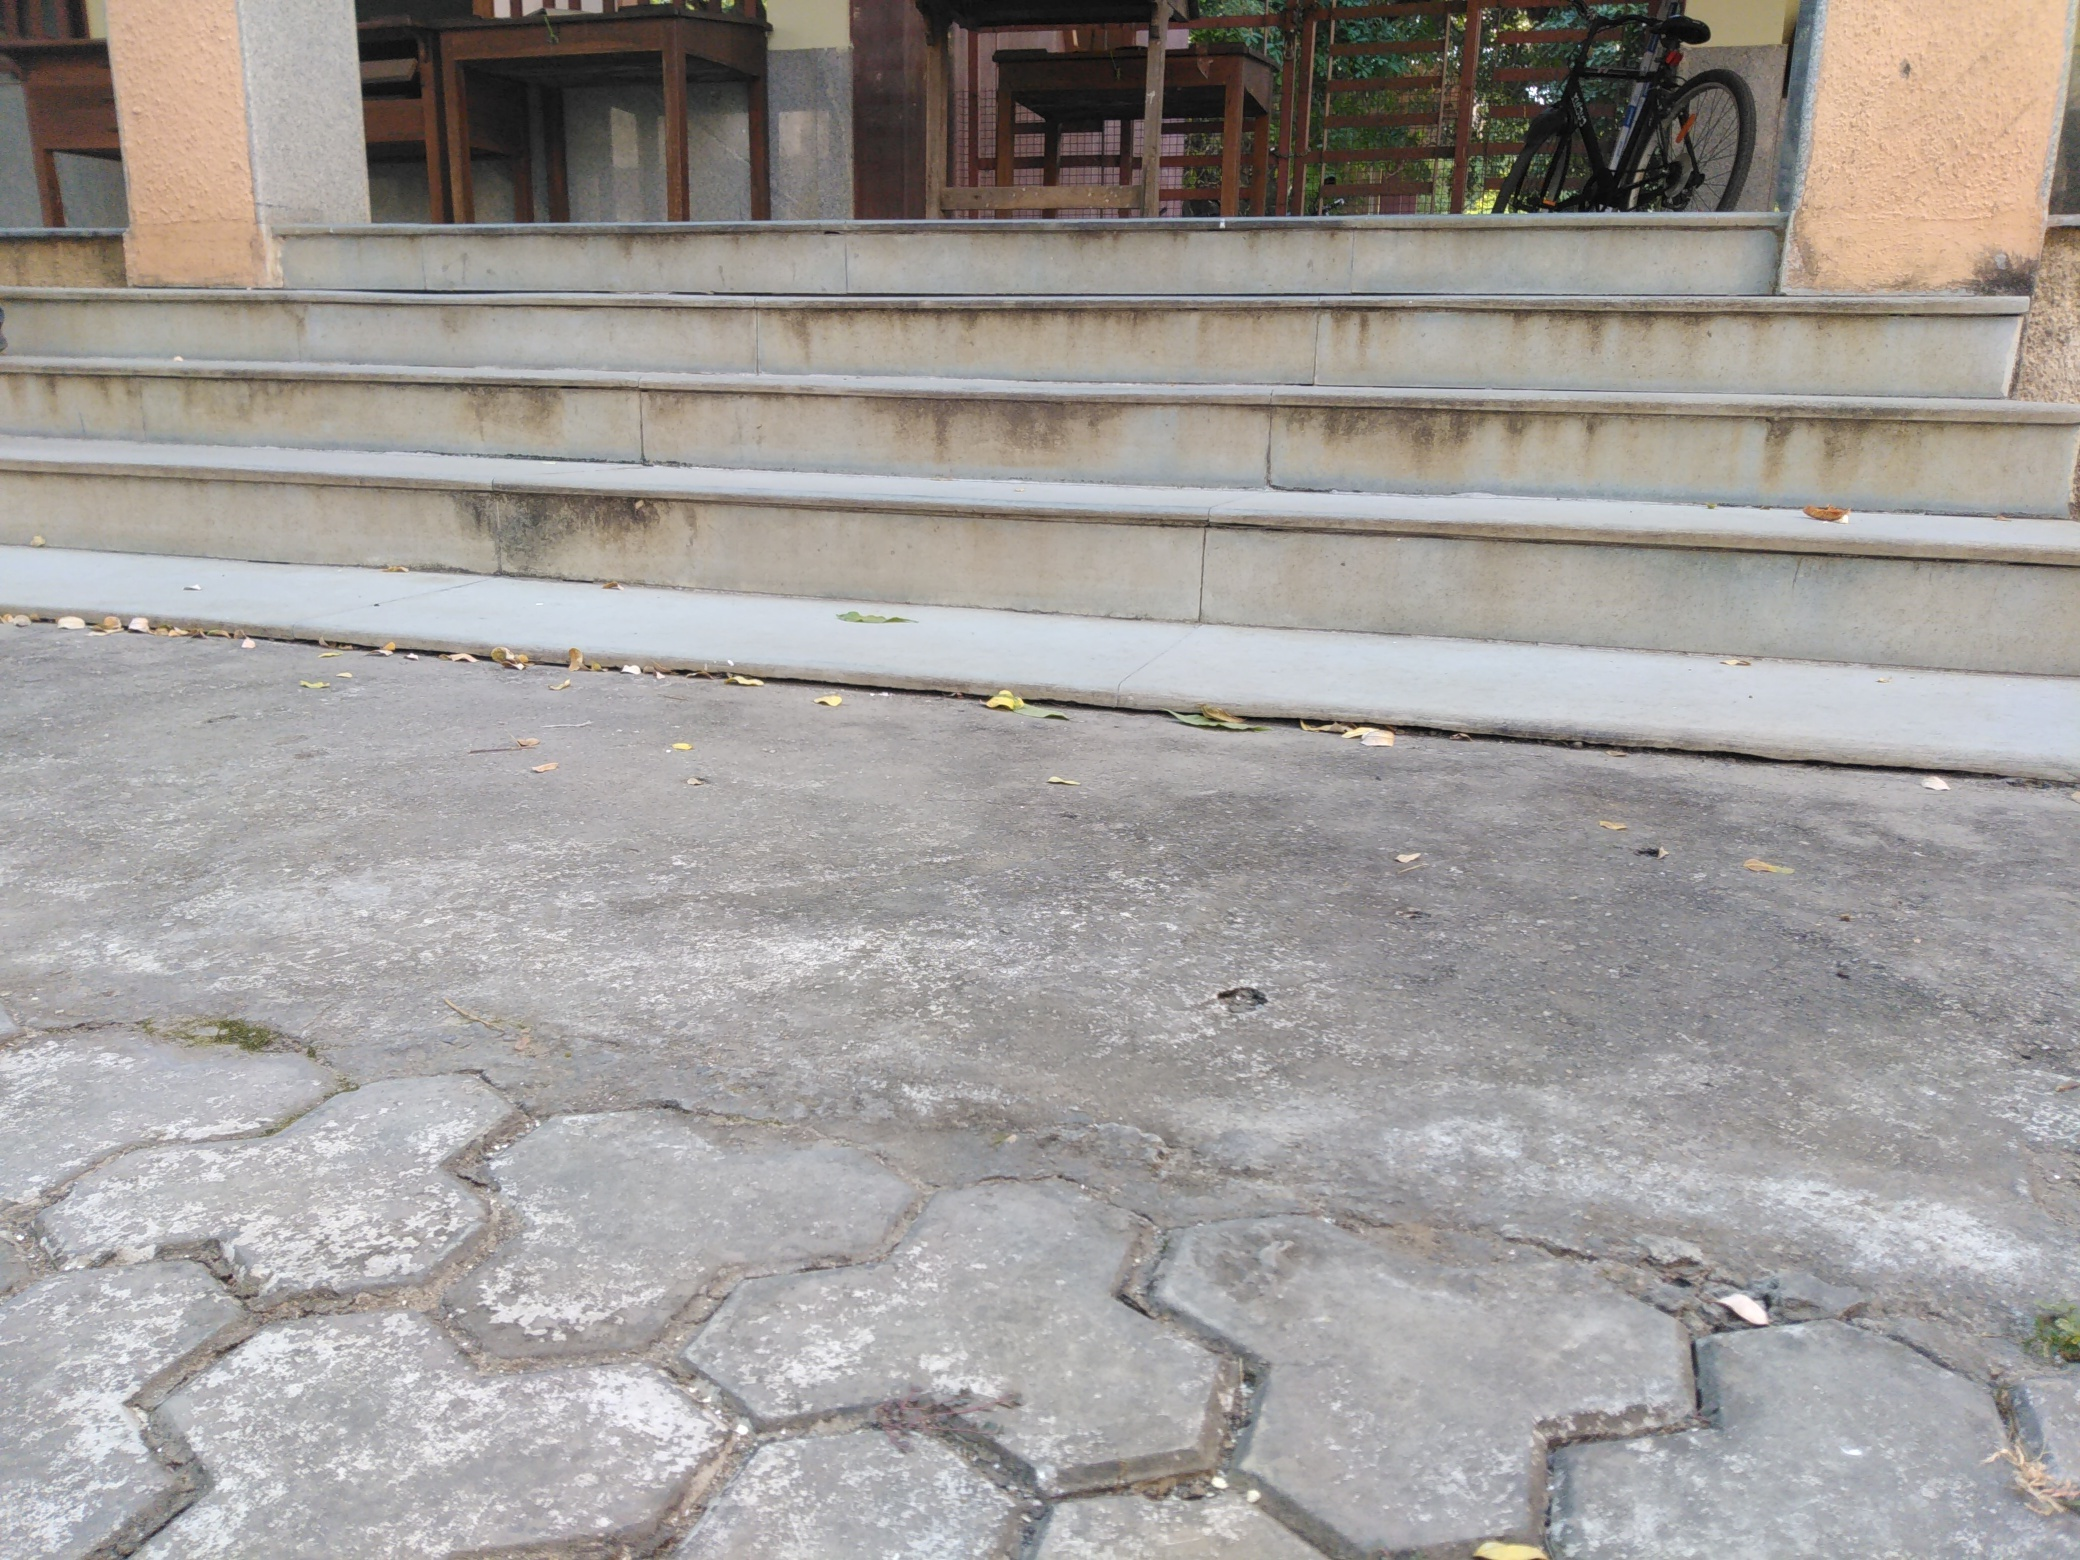stairs_up: (29, 206, 2080, 751)
